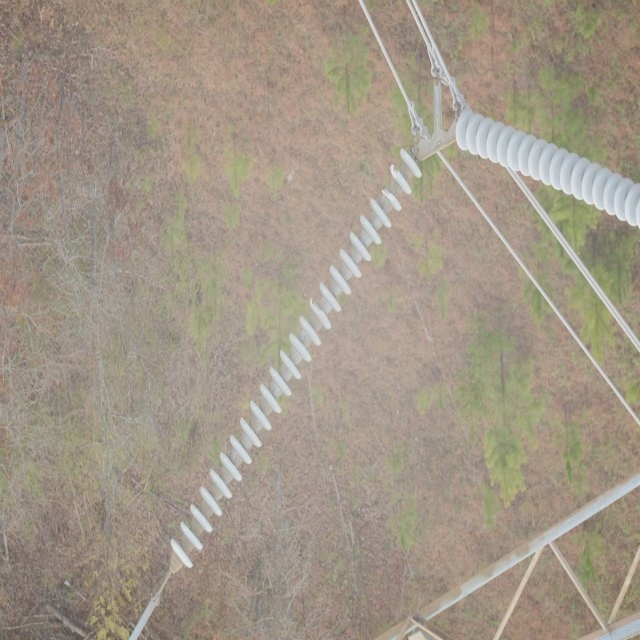broken: (309, 296, 326, 316)
insulator: (169, 147, 421, 567), (455, 109, 640, 230)
